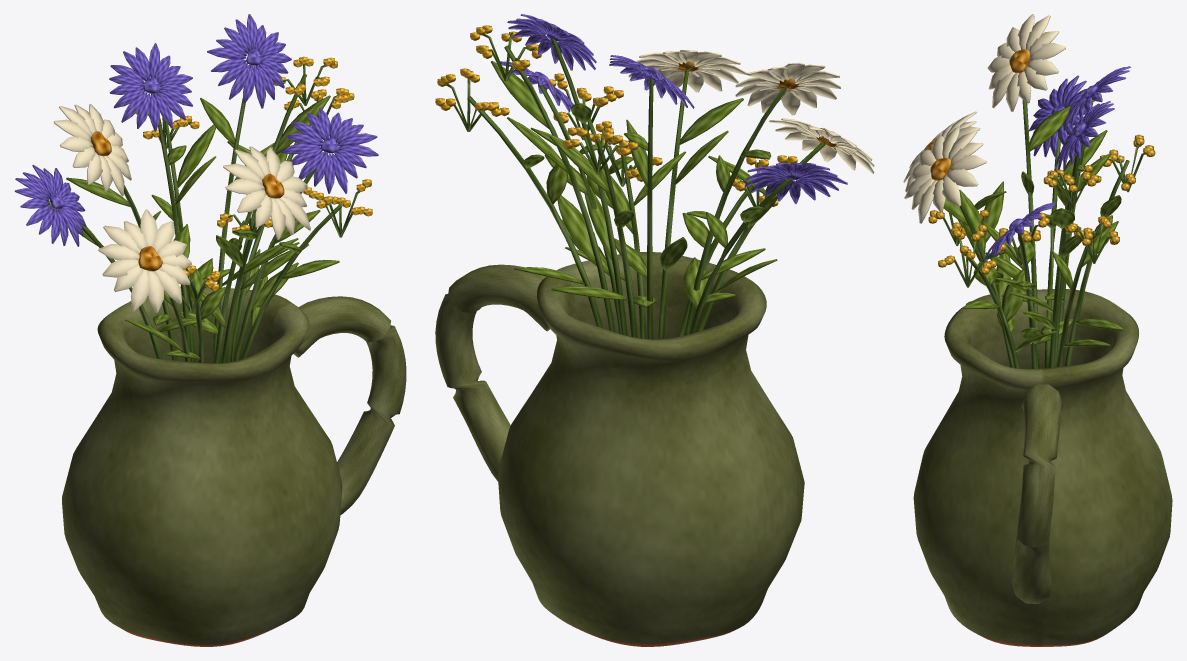
File: green-flower-jug.glb
The picture shows the model from 3 angles, left to right: view 1: azimuth 30°, elevation 25°; view 2: azimuth 150°, elevation 25°; view 3: azimuth 270°, elevation 25°; orthographic projection. The views are drawn at different scales.
Parts seen in each view (by area): view 1: Wheel-thrown glazed jug body, Daisy and aster ray petals, Wildflower foliage, Curved flower and branch stems, Hand-pulled loop handle, Flower centers and yarrow; view 2: Wheel-thrown glazed jug body, Wildflower foliage, Curved flower and branch stems, Daisy and aster ray petals, Hand-pulled loop handle, Flower centers and yarrow; view 3: Wheel-thrown glazed jug body, Daisy and aster ray petals, Wildflower foliage, Curved flower and branch stems, Hand-pulled loop handle, Flower centers and yarrow.
Boxes of the visible parts, bbox=[...] form: Wheel-thrown glazed jug body: bbox=[62, 286, 342, 646]; Daisy and aster ray petals: bbox=[14, 14, 378, 312]; Wildflower foliage: bbox=[48, 95, 339, 359]; Curved flower and branch stems: bbox=[81, 64, 366, 363]; Hand-pulled loop handle: bbox=[293, 296, 406, 515]; Flower centers and yarrow: bbox=[49, 49, 372, 292]; Wheel-thrown glazed jug body: bbox=[498, 252, 804, 646]; Wildflower foliage: bbox=[491, 61, 777, 308]; Curved flower and branch stems: bbox=[444, 32, 825, 339]; Daisy and aster ray petals: bbox=[500, 14, 874, 203]; Hand-pulled loop handle: bbox=[435, 264, 549, 481]; Flower centers and yarrow: bbox=[435, 25, 837, 206]; Wheel-thrown glazed jug body: bbox=[913, 289, 1172, 646]; Daisy and aster ray petals: bbox=[903, 14, 1130, 260]; Wildflower foliage: bbox=[944, 106, 1123, 352]; Curved flower and branch stems: bbox=[935, 99, 1144, 368]; Hand-pulled loop handle: bbox=[1012, 384, 1062, 603]; Flower centers and yarrow: bbox=[926, 49, 1155, 274].
Bounding box in the file's own units: 0.3567 × 0.4998 × 0.2238.
Materials: 8 (8 with a texture image).
